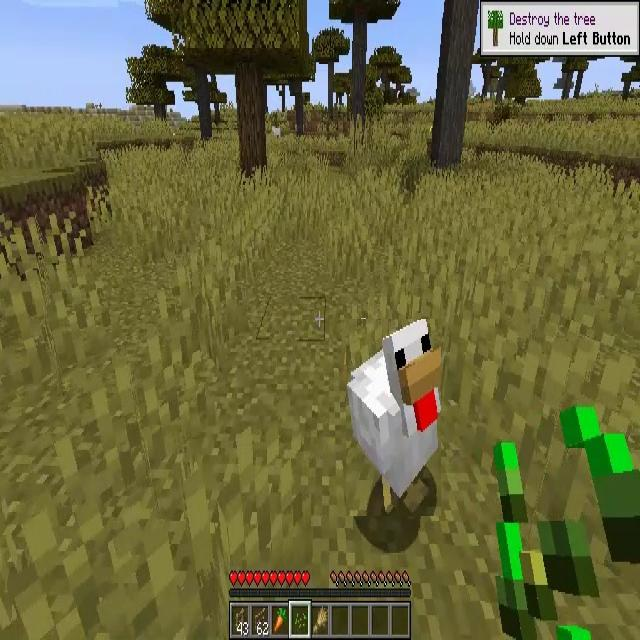duck: (346, 319, 441, 516)
